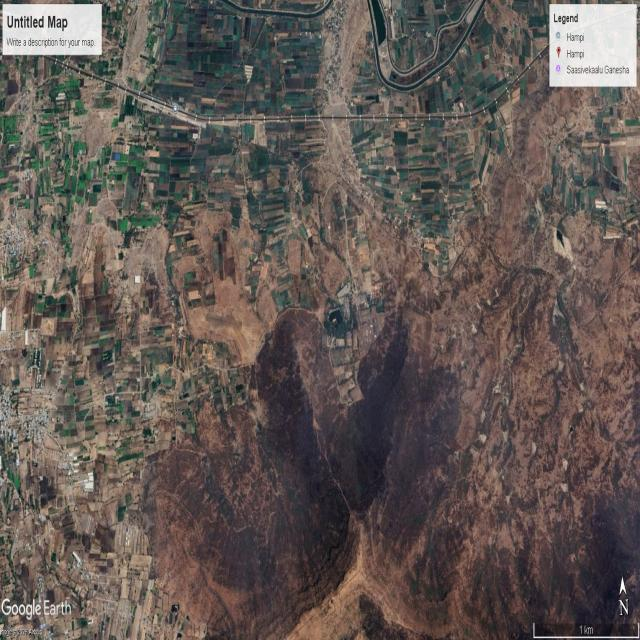artifacts: (321, 254, 383, 396), (2, 192, 54, 282), (2, 374, 56, 460)
ruins: (439, 246, 562, 484), (557, 262, 639, 469), (292, 513, 427, 636), (172, 210, 265, 358), (6, 479, 89, 634), (84, 516, 166, 635), (320, 174, 362, 293), (117, 3, 163, 95), (32, 283, 80, 364), (551, 225, 575, 268)
vegetation: (56, 247, 172, 453), (5, 68, 114, 248), (368, 101, 470, 254), (547, 106, 640, 226), (446, 7, 525, 132), (127, 118, 197, 226), (172, 346, 250, 436), (497, 5, 554, 103), (241, 137, 289, 247), (274, 19, 322, 127), (181, 10, 236, 91)
